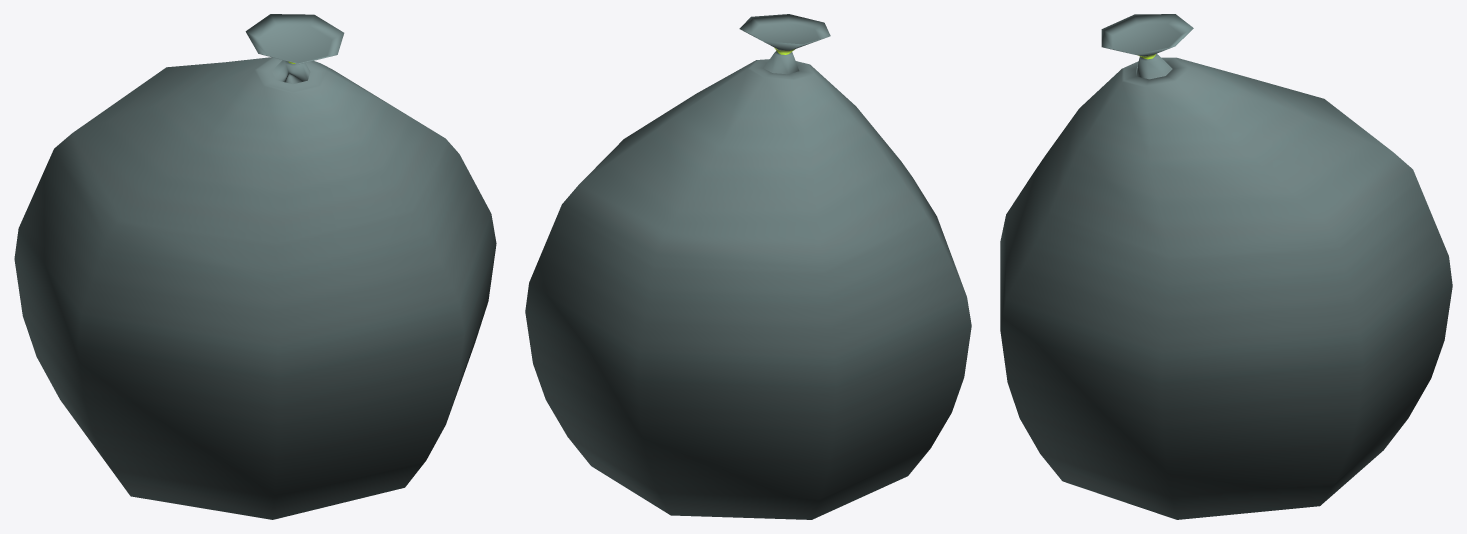
The model's file is TrashBag.fbx.
3 renders of one model, left to right at view 1: azimuth 30°, elevation 25°; view 2: azimuth 150°, elevation 25°; view 3: azimuth 270°, elevation 25°, orthographic. The views are drawn at different scales.
Parts seen in each view (by area): view 1: Trash Bag.001; view 2: Trash Bag.001; view 3: Trash Bag.001.
Part boxes in pixels (x1=…): Trash Bag.001: x1=14, y1=14, x2=496, y2=519; Trash Bag.001: x1=525, y1=14, x2=971, y2=519; Trash Bag.001: x1=1000, y1=14, x2=1452, y2=519.
Size of the model in its own units: 97.28 by 97.63 by 94.84.
